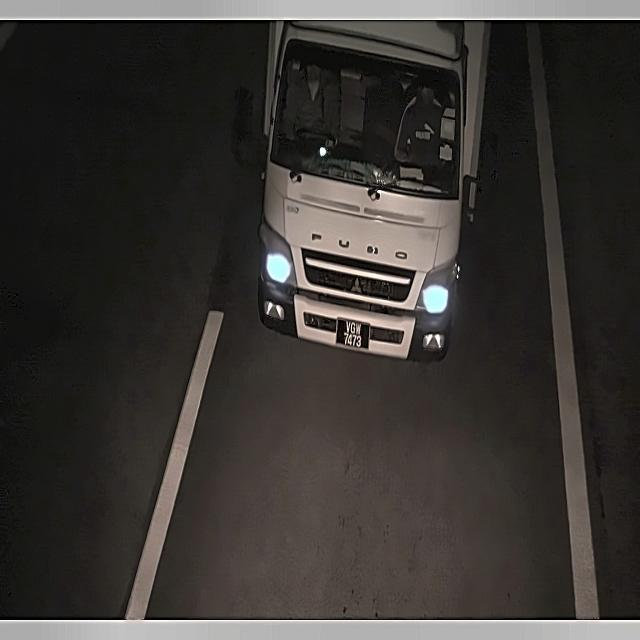car: (331, 311, 374, 356)
